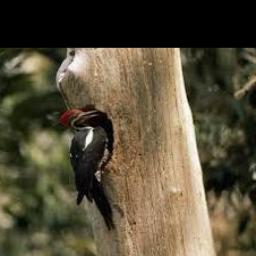Woodpecker: (60, 109, 116, 230)
